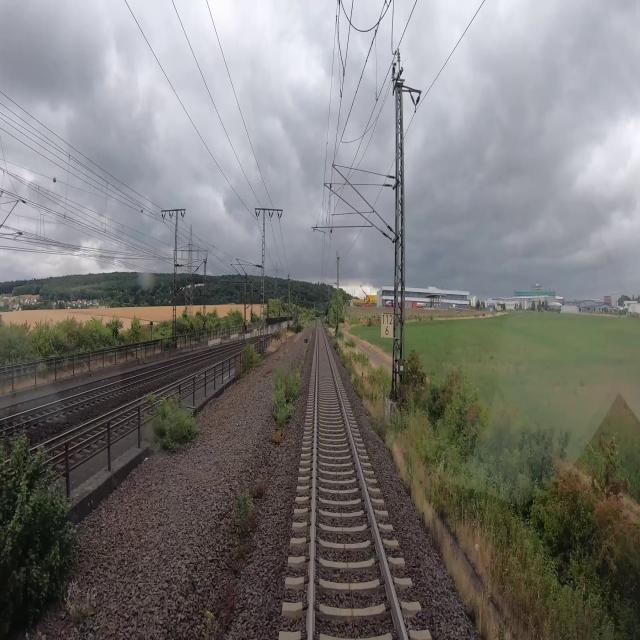Plant: (370, 417, 509, 639), (272, 370, 306, 426), (233, 495, 257, 535), (250, 484, 264, 498)
